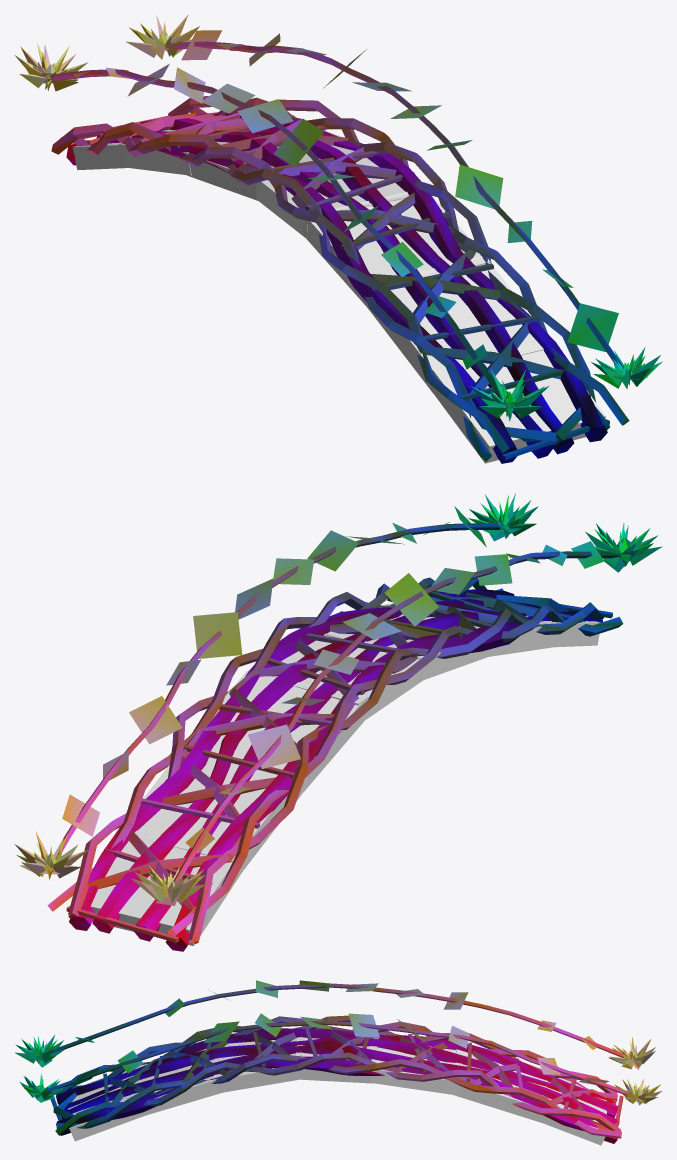
File: Plant_Bridge_03.fbx
3 views of the same model, one above another, from view 1: azimuth 30°, elevation 25°; view 2: azimuth 150°, elevation 25°; view 3: azimuth 270°, elevation 25° (orthographic). The views are drawn at different scales.
Parts seen in each view (by area): view 1: Plant_Bridge_03, COL_03_1, COL_03_0, COL_03_2, COL_03_3, COL_03_4, COL_03_5, COL_03_6; view 2: Plant_Bridge_03, COL_03_5, COL_03_6, COL_03_4, COL_03_3, COL_03_2, COL_03_1, COL_03_0; view 3: Plant_Bridge_03, COL_03_4, COL_03_5, COL_03_2, COL_03_1, COL_03_0, COL_03_3, COL_03_6.
Boxes of the visible parts, <box> form: Plant_Bridge_03: <box>14,15,662,463</box>; COL_03_1: <box>363,256,543,392</box>; COL_03_0: <box>429,350,605,463</box>; COL_03_2: <box>303,191,490,308</box>; COL_03_3: <box>256,158,409,239</box>; COL_03_4: <box>184,130,354,200</box>; COL_03_5: <box>119,135,259,175</box>; COL_03_6: <box>72,129,175,170</box>; Plant_Bridge_03: <box>14,493,662,951</box>; COL_03_5: <box>137,745,308,878</box>; COL_03_6: <box>90,830,240,945</box>; COL_03_4: <box>211,671,366,791</box>; COL_03_3: <box>248,631,425,721</box>; COL_03_2: <box>324,614,490,681</box>; COL_03_1: <box>380,603,553,657</box>; COL_03_0: <box>525,616,600,647</box>; Plant_Bridge_03: <box>15,980,661,1143</box>; COL_03_4: <box>370,1046,462,1095</box>; COL_03_5: <box>454,1049,547,1122</box>; COL_03_2: <box>213,1037,302,1093</box>; COL_03_1: <box>131,1048,220,1117</box>; COL_03_0: <box>68,1069,142,1141</box>; COL_03_3: <box>296,1037,378,1083</box>; COL_03_6: <box>536,1078,606,1145</box>.
Bounding box in the file's own units: 2.71 × 2.89 × 12.71.
